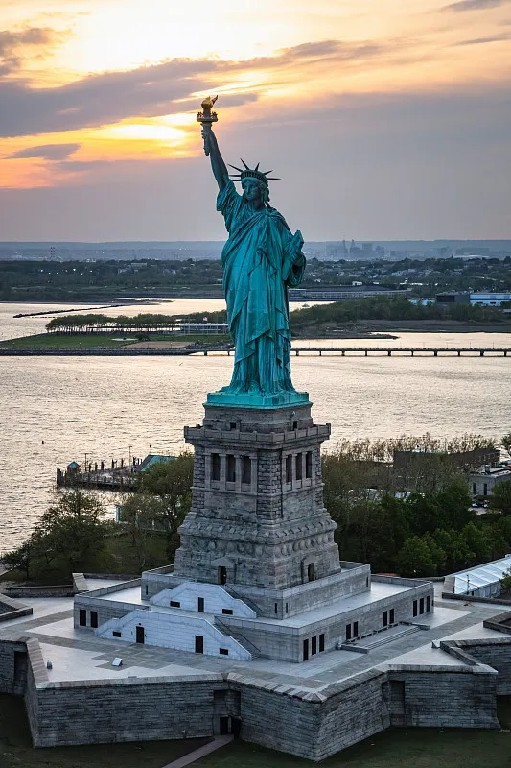SL: (173, 93, 342, 590)
